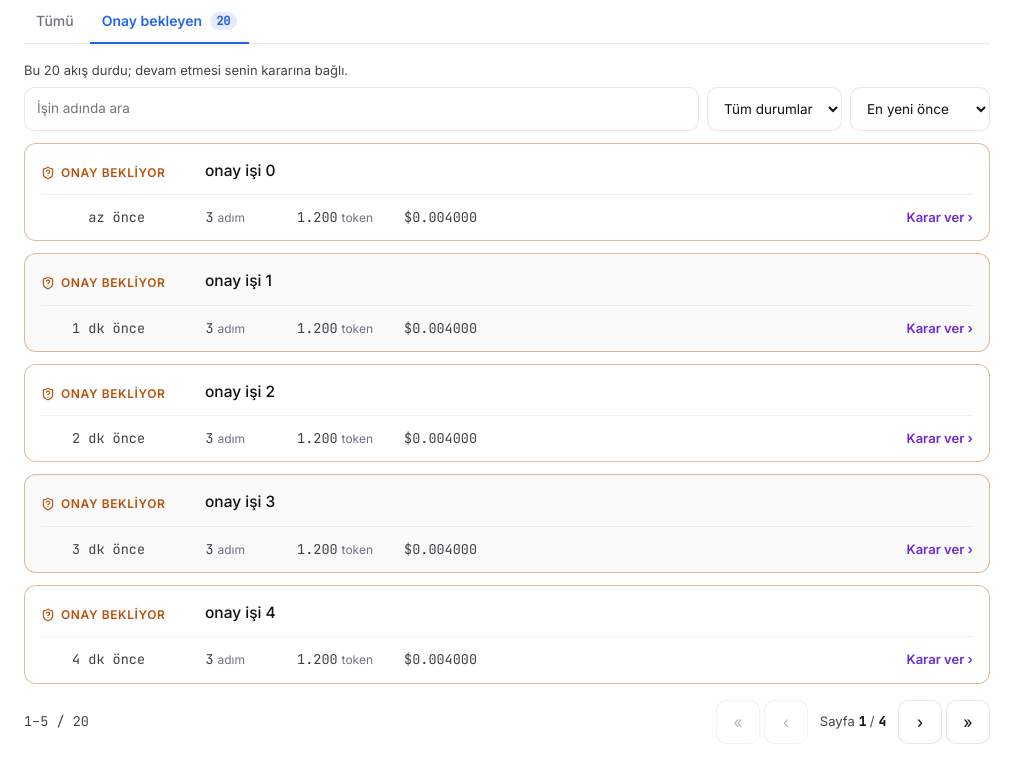
Scenario: turning_a_page_does_not_change_what_the_tab_says_is_waiting
(page scrolled)
Expected: the text "onay işi 0" is shown, [205, 161, 276, 180]
Expected: the text "20" is shown, [210, 12, 236, 30]
Click the button named "Sonraki sayfa" at point(920, 722), box [898, 700, 942, 744]
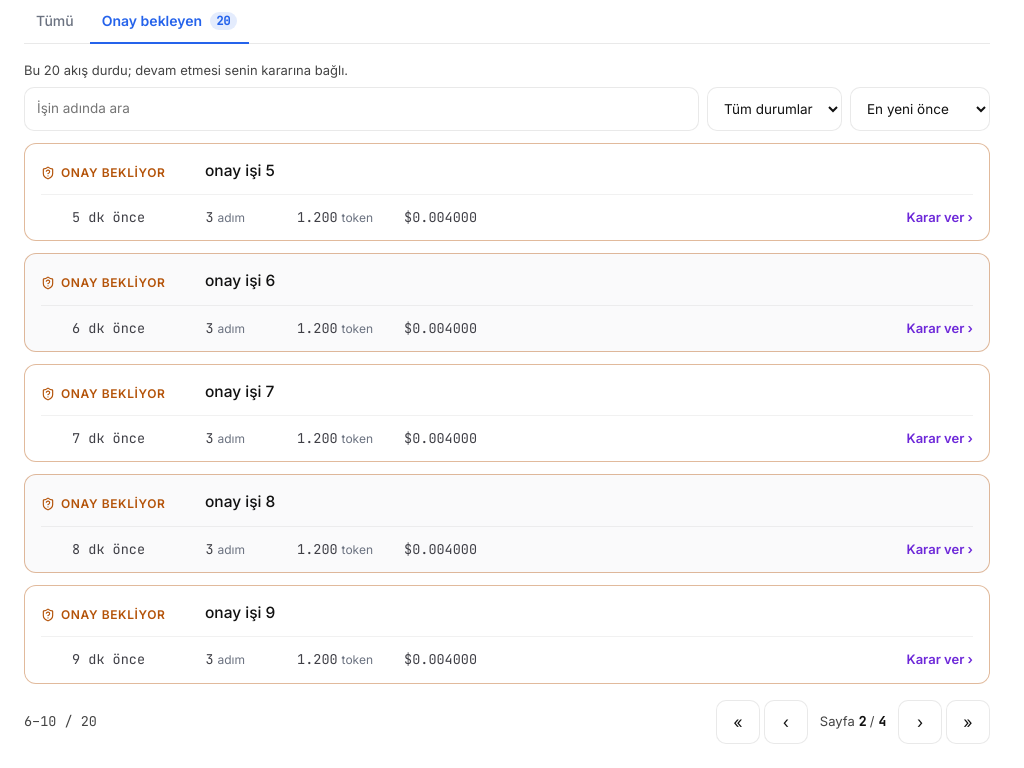
Expected: the text "20" is shown, [210, 12, 236, 30]
Now the text "6–10 / 20" is shown, box [24, 711, 97, 732]
